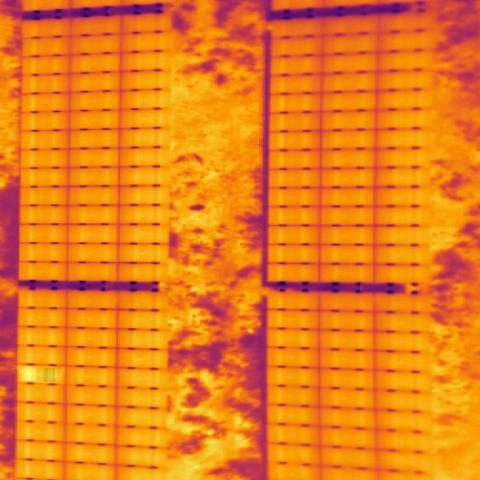fault: (21, 366, 36, 381), (44, 368, 55, 382)
